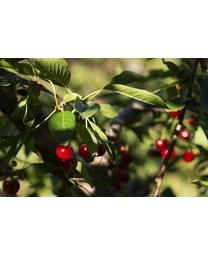cherry: (78, 143, 96, 160), (56, 144, 73, 160), (3, 177, 21, 192), (154, 137, 166, 150), (184, 151, 194, 162)
